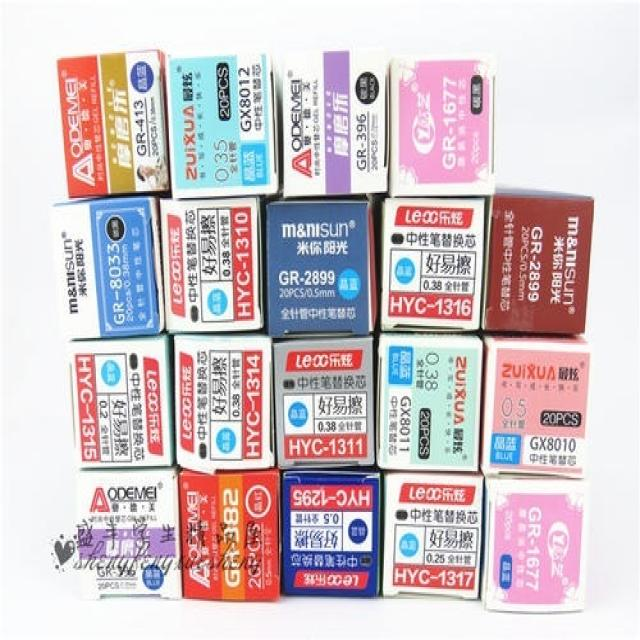box: (474, 332, 599, 479), (260, 193, 377, 345), (49, 192, 165, 343), (58, 46, 172, 199), (481, 183, 594, 335), (272, 52, 389, 195), (166, 50, 280, 196), (376, 192, 488, 337), (388, 50, 497, 196), (166, 330, 278, 472), (61, 331, 174, 469), (376, 331, 483, 474), (67, 467, 183, 597), (157, 192, 264, 332), (481, 473, 588, 613), (274, 336, 377, 475), (278, 471, 383, 596), (381, 474, 485, 599), (183, 471, 281, 603)
